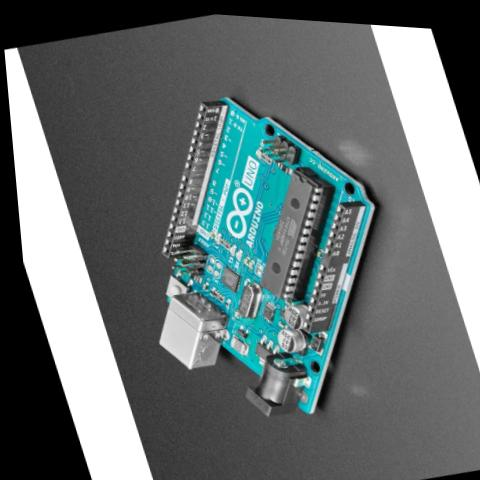Arduino-Uno: (75, 55, 438, 452)
